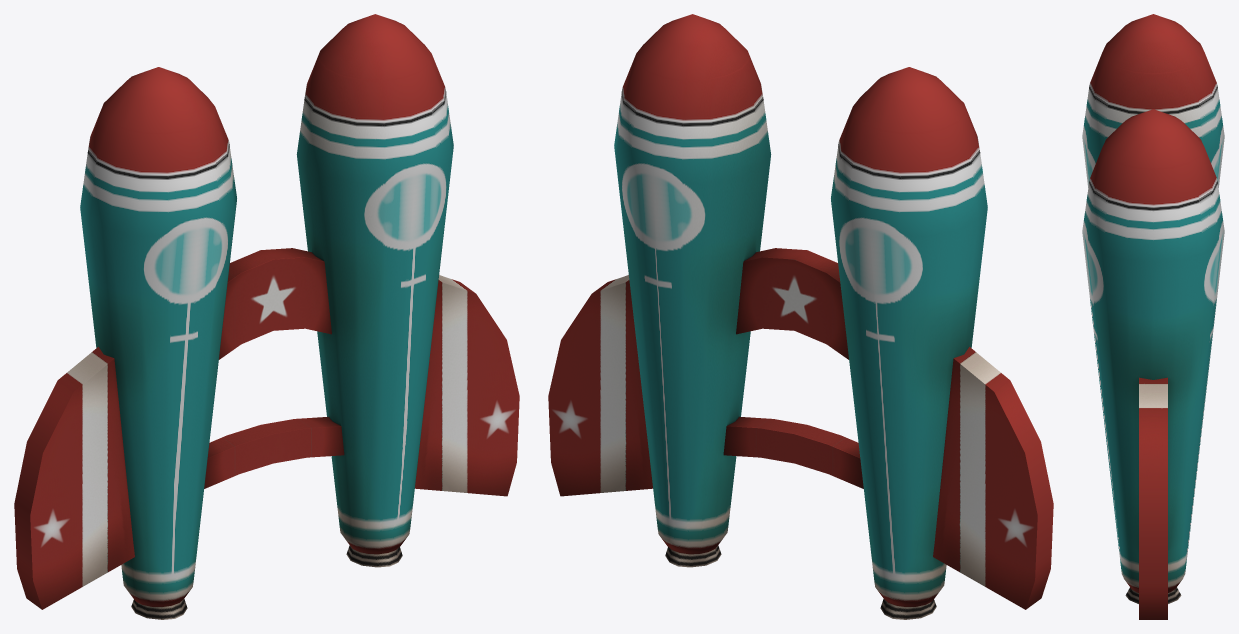
3 views of the same model, side by side, from view 1: azimuth 30°, elevation 25°; view 2: azimuth 150°, elevation 25°; view 3: azimuth 270°, elevation 25° (orthographic). The views are drawn at different scales.
Visible parts, largest first — view 1: S007; view 2: S007; view 3: S007.
Part boxes in pixels (x1,y1,x2,y2): S007: (14,14,519,619); S007: (548,14,1053,619); S007: (1082,14,1224,619).
Size of the model in its own units: 25.8 by 27.24 by 7.23.
Materials: 1 (1 with a texture image).
